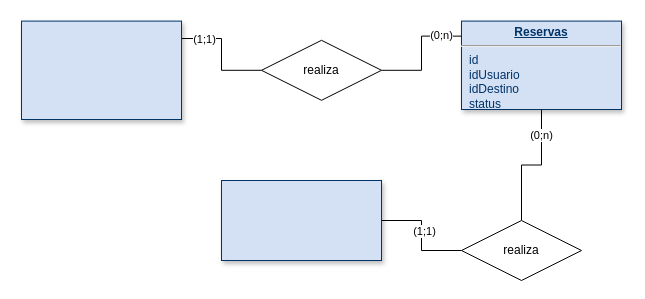
Some shapes in this 645 by 299 pixel diagram are drawn without their labels. The centre of each missing label's shape, as x and y in pixels:
"Destinos id nome descricao" belongs at [302,222].
"Usuario id nome dataNascimento endereco" belongs at [102,71].
